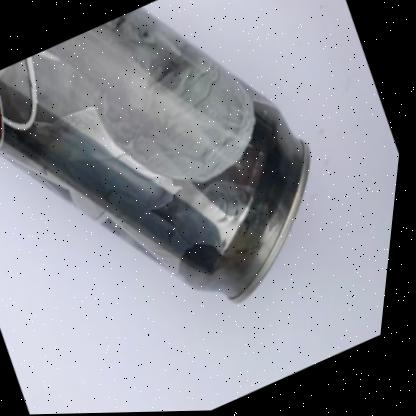Metal: (0, 8, 313, 302)
